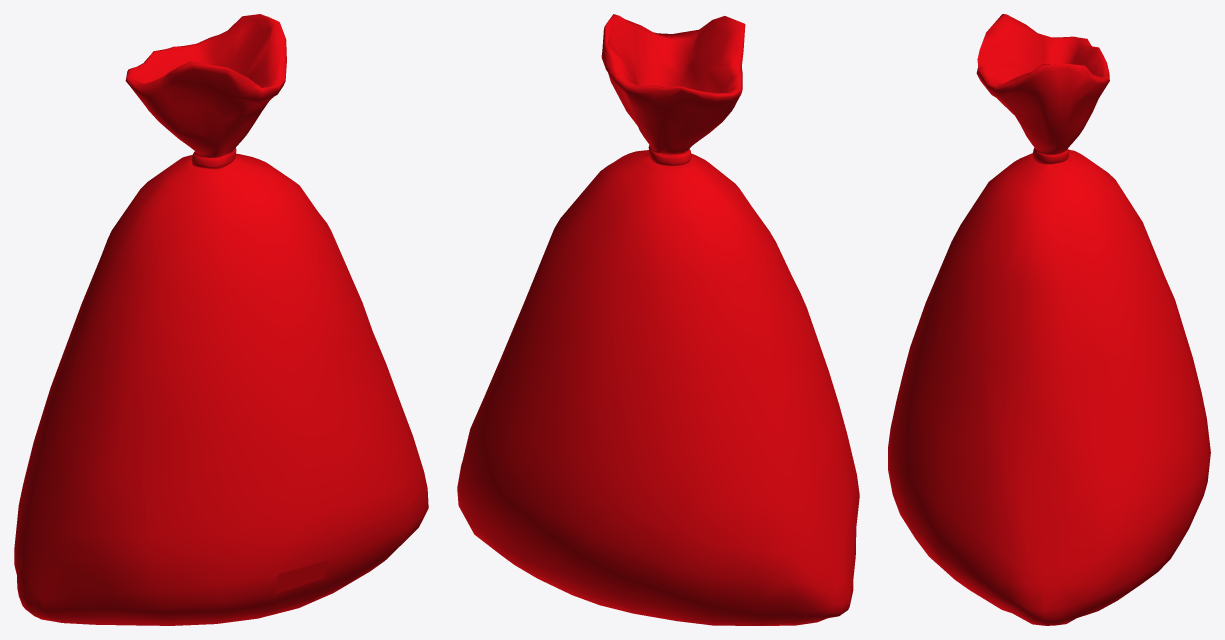
The model's file is MoneySack.fbx.
The picture shows the model from 3 angles, left to right: view 1: azimuth 30°, elevation 25°; view 2: azimuth 150°, elevation 25°; view 3: azimuth 270°, elevation 25°; orthographic projection. The views are drawn at different scales.
Parts seen in each view (by area): view 1: Money_Sack_B3; view 2: Money_Sack_B3; view 3: Money_Sack_B3.
Part boxes in pixels (x1,y1,x2,y2): Money_Sack_B3: [14, 14, 428, 625]; Money_Sack_B3: [457, 14, 859, 625]; Money_Sack_B3: [888, 14, 1210, 625].
Bounding box in the file's own units: 0.1828 × 0.2528 × 0.1407.
